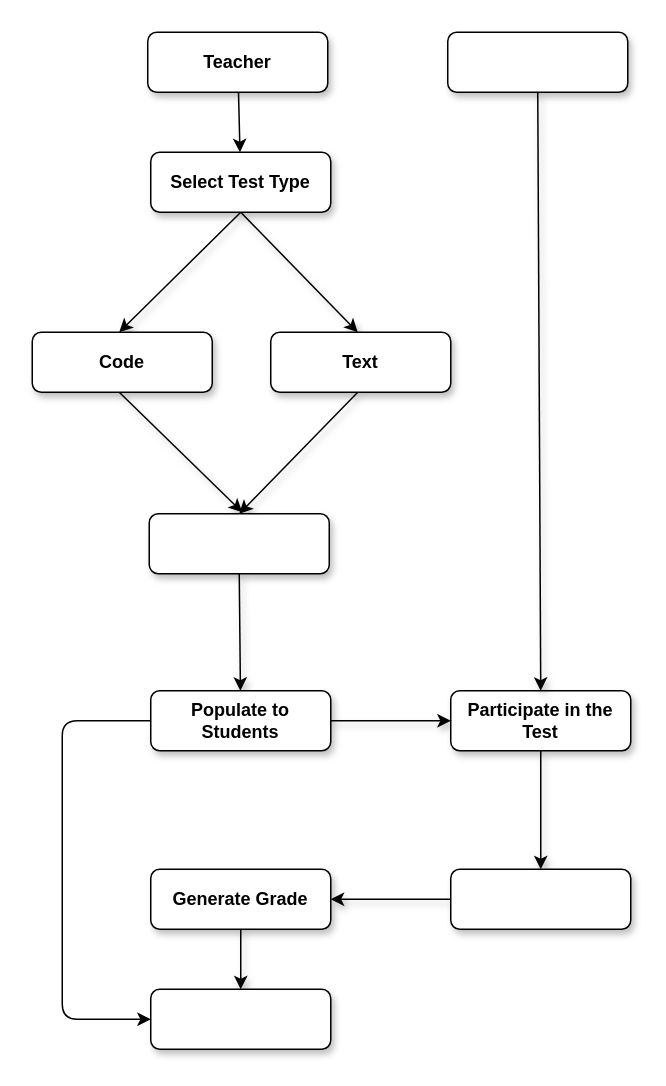
This 666x1086 diagram has some shape labels left out. Here are the shapes that lost their labels. From the top down, the centre of each, then its label:
At [538,64]: "Student".
At [240,545]: "Add Questions".
At [541,901]: "Submit Response".
At [241,1021]: "Download / Display Grade".
